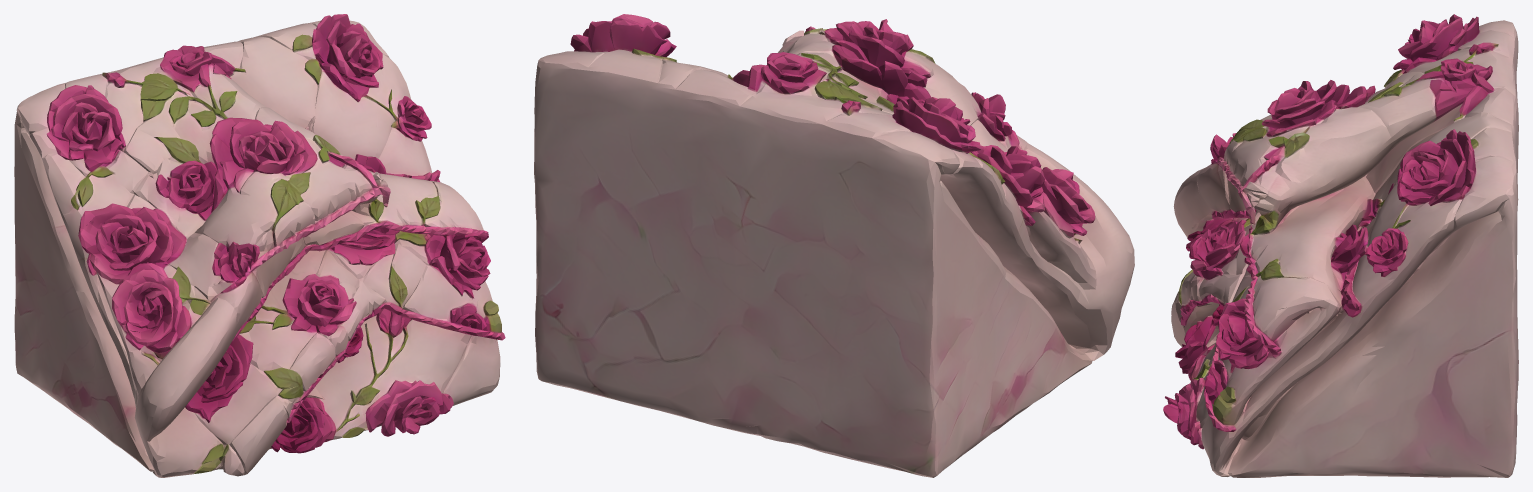
The model's file is quilt.glb.
The picture shows the model from 3 angles, left to right: view 1: azimuth 30°, elevation 25°; view 2: azimuth 150°, elevation 25°; view 3: azimuth 270°, elevation 25°; orthographic projection. The views are drawn at different scales.
Visible parts, largest first — view 1: model; view 2: model; view 3: model.
Part boxes in pixels (x1,y1,x2,y2): model: (14,14,505,477); model: (534,14,1134,477); model: (1163,14,1518,477).
Size of the model in its own units: 1.9 by 1.52 by 1.49.
1 material, 1 textured.
